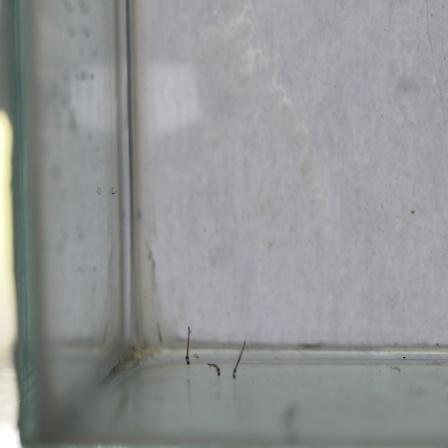Jentik-Nyamuk: (179, 322, 197, 369)
